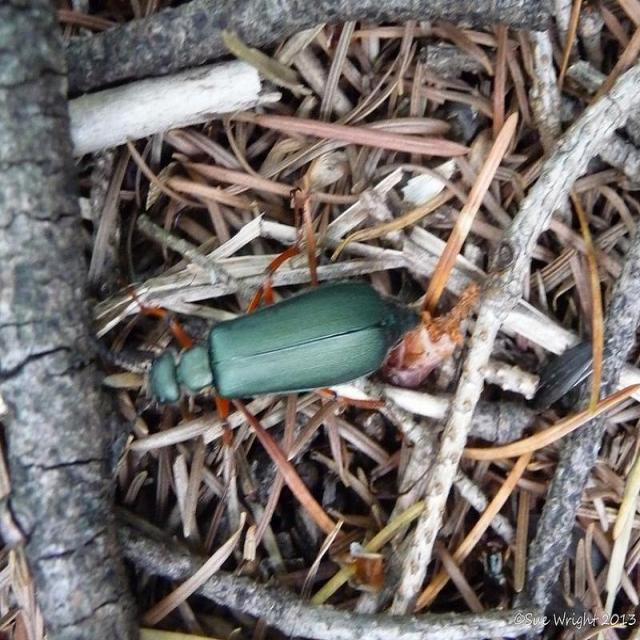BlisterBeetle-Adult-: (88, 280, 429, 430)
